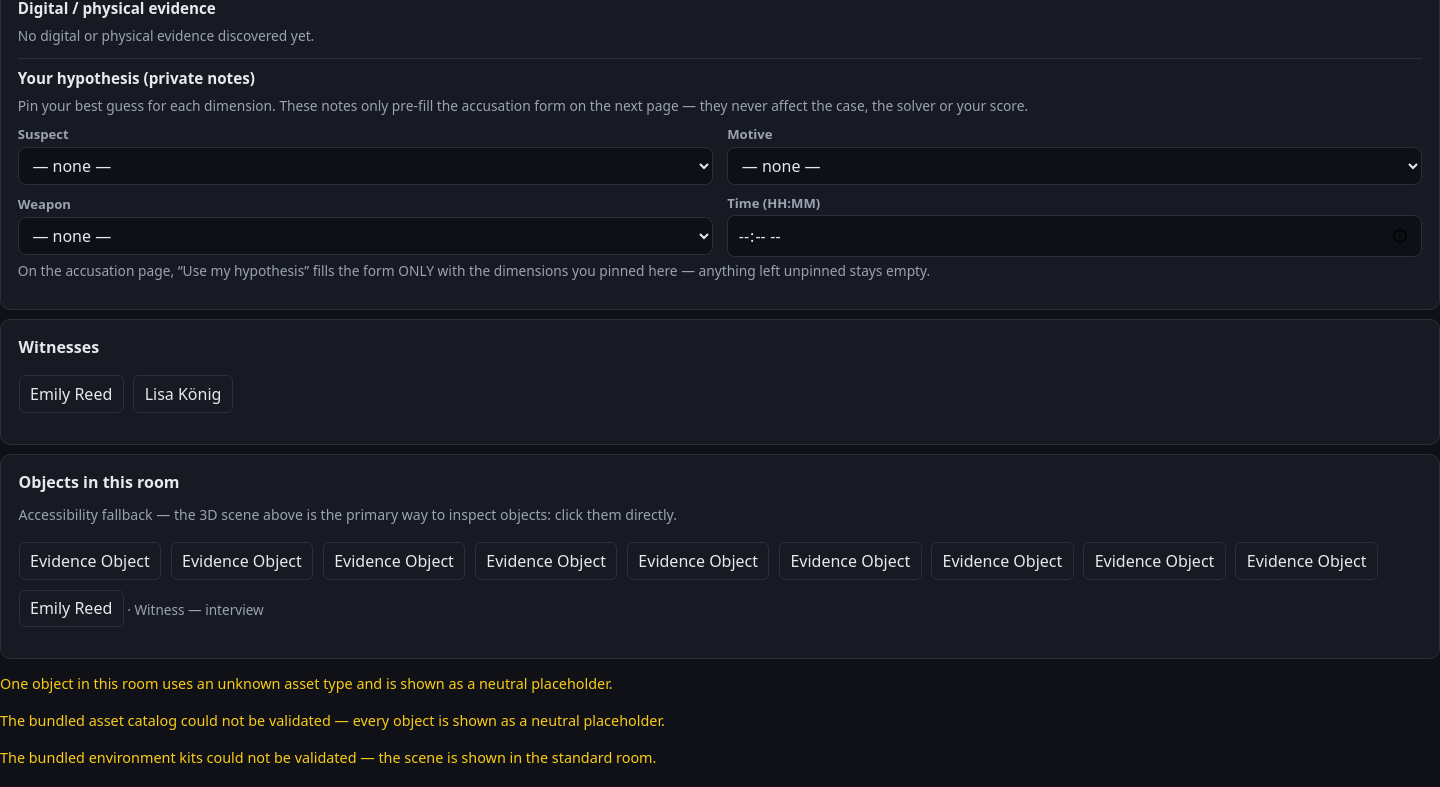
Scenario: Phase 23 — interview question flow on /scene › Phase 28 §14 — the witness answer is fully in-panel: panel + polite live region, no overlay, object interactions still open the evidence panel
(page scrolled)
Click the button with test id "object-apartment_laptop" at (394, 561), box [323,542,465,580]
(page scrolled)
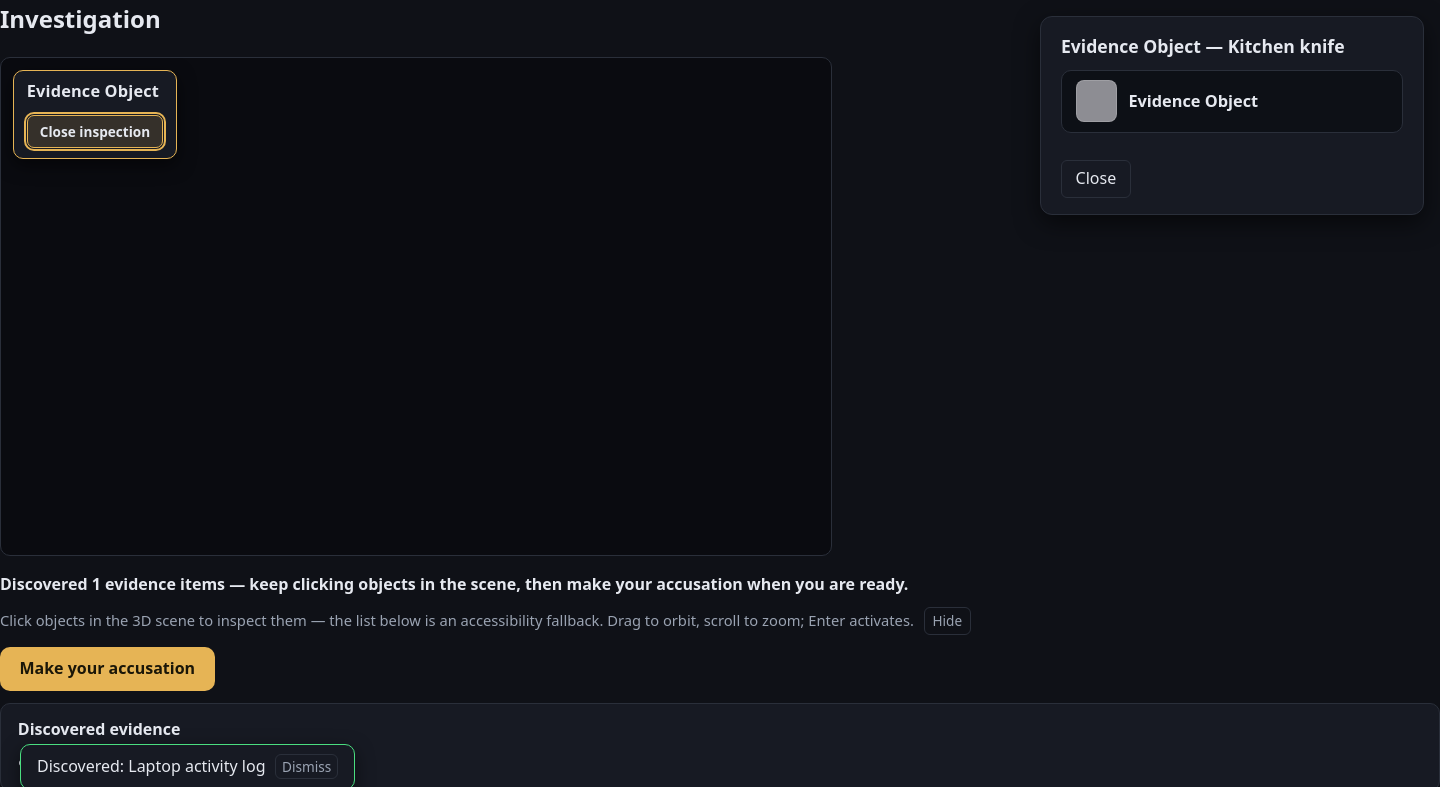
Expected: the dialog with test id "evidence-panel" is shown, [1040,16,1424,215]
Expected: the button with test id "evidence-close" is shown
Click the button with test id "evidence-close" at (1096, 179), box [1061,160,1131,198]
(page scrolled)
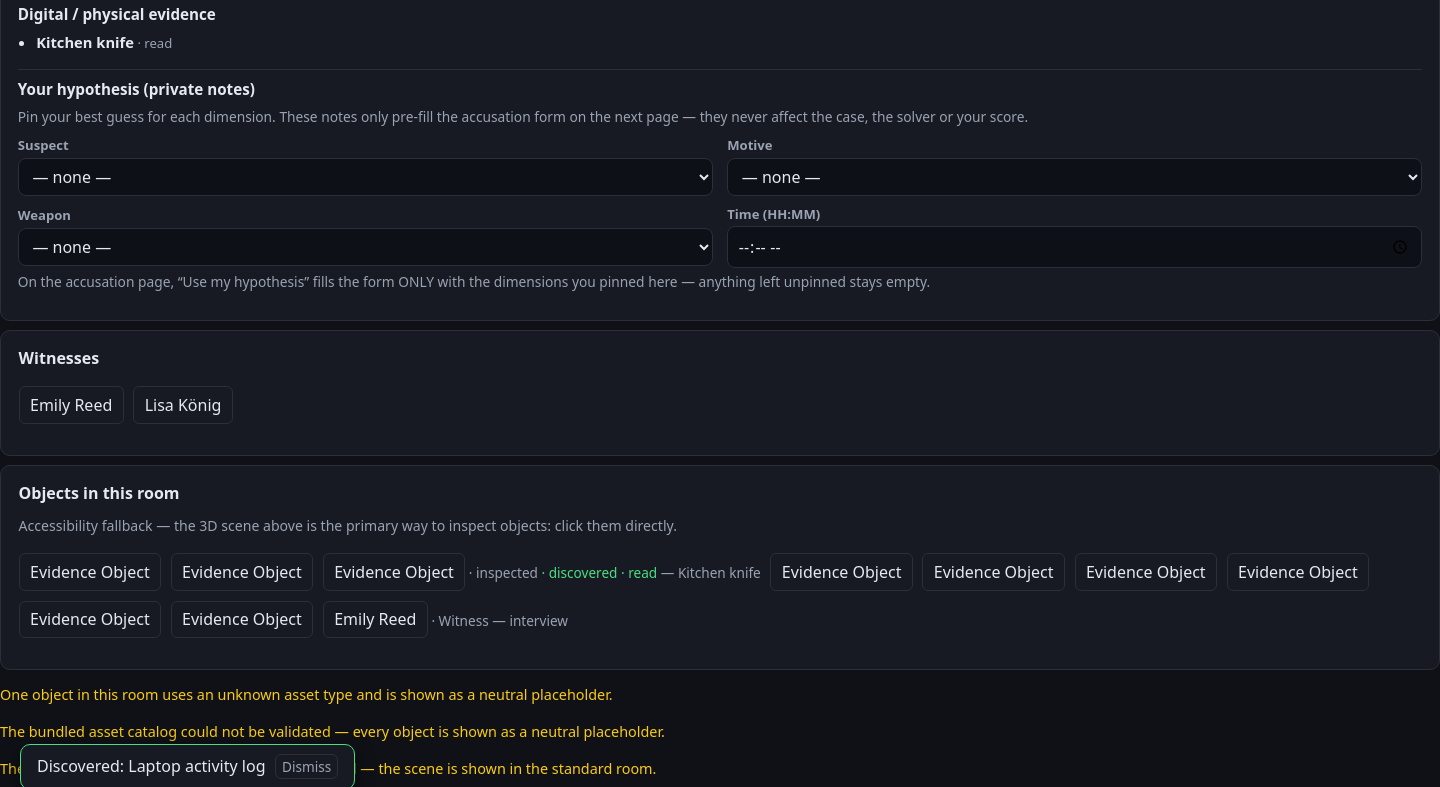
Expected: the dialog with test id "evidence-panel" is gone
Click the button "Emily Reed" below "Witnesses" at (71, 405), box [19,386,124,424]
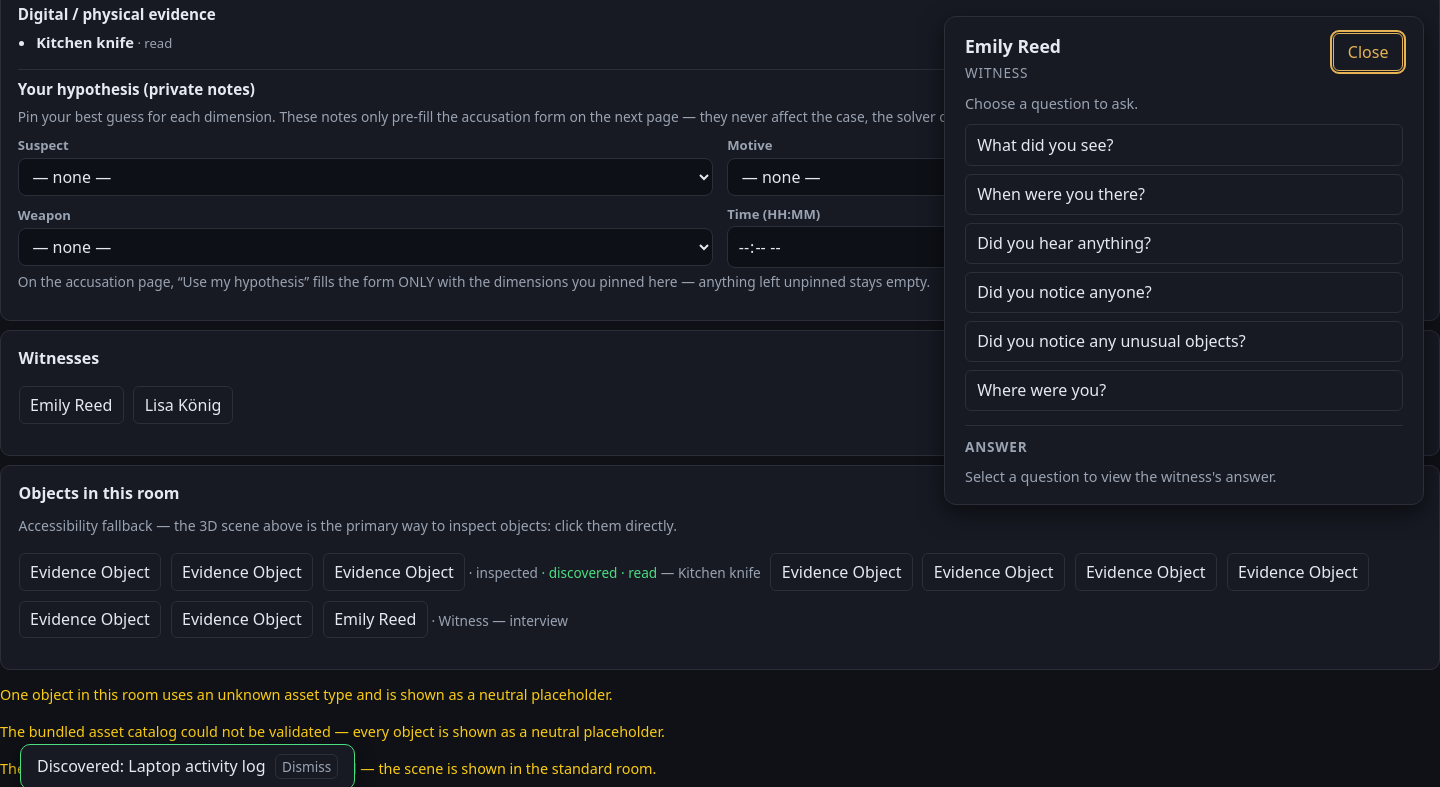
Click the button with test id "witness-question-TIME" at (1061, 194), box [965,174,1403,215]
(page scrolled)
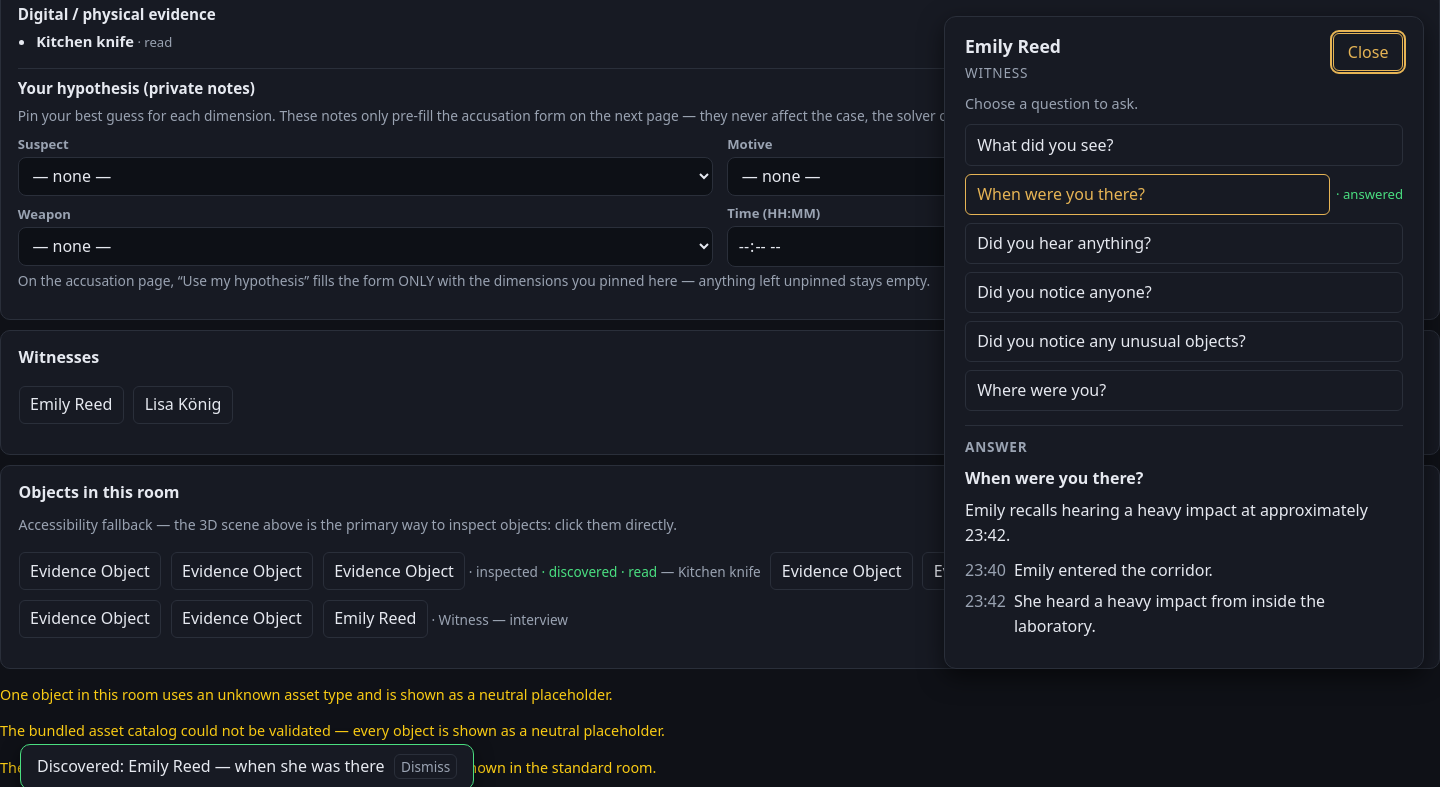
Expected: the heading with test id "witness-panel-name" reads "Emily Reed", [965,34,1061,58]
Expected: the text with test id "witness-statement-summary" shows "heavy impact", [965,499,1368,546]
Expected: the list with test id "witness-observations" is shown, [965,558,1325,637]
